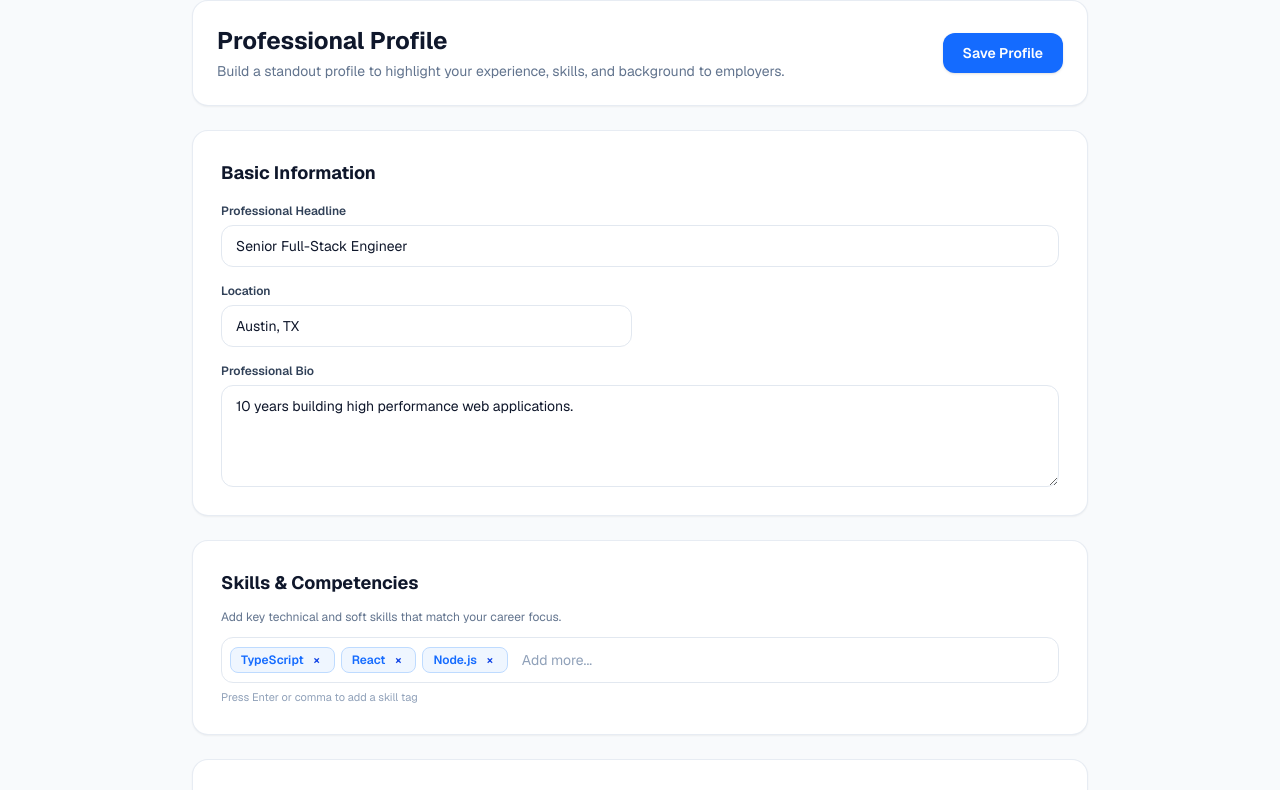
Test: SeekerProfilePage Component › adds a new skill tag via TagInput
Expected: the field showing "Senior Full-Stack Engineer" is shown, [221, 225, 1059, 267]
Type "Docker" into the field with placeholder "Add more...". click: (782, 660)
box: [514, 646, 1050, 674]
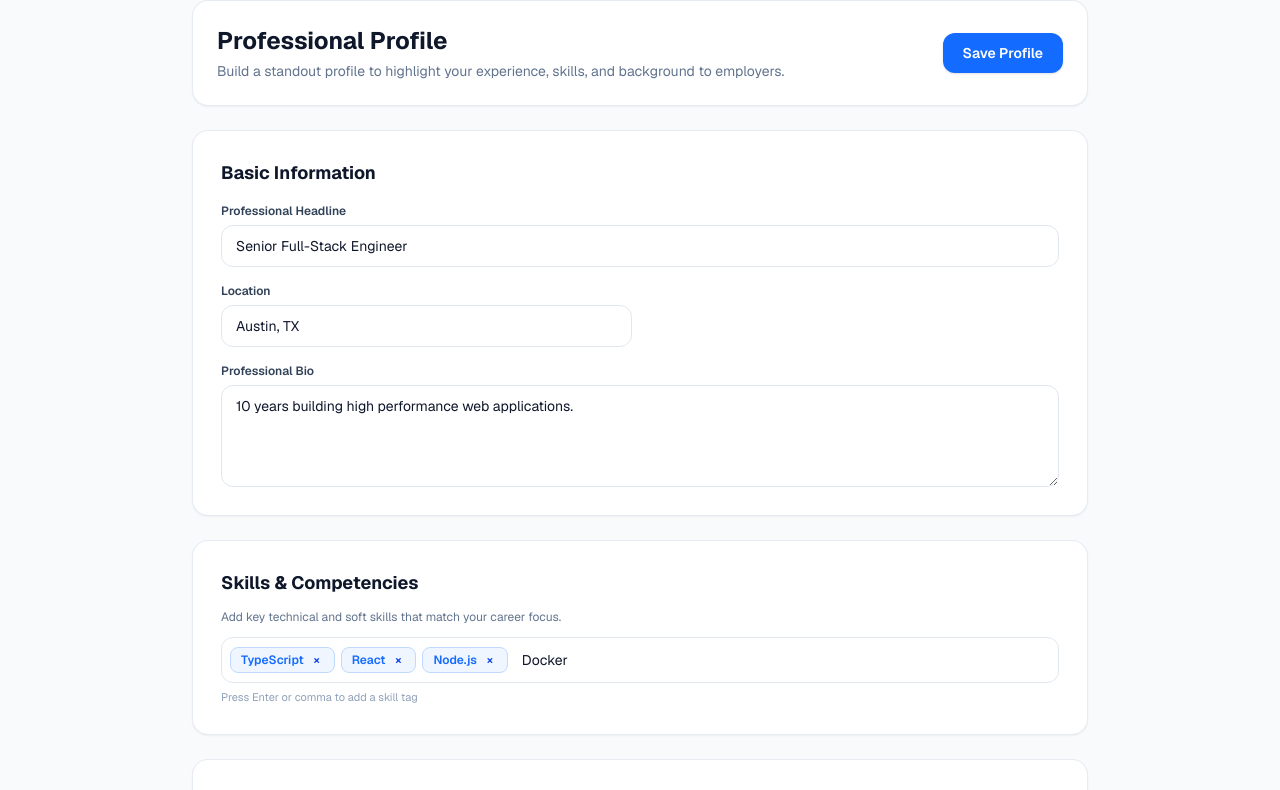
Press Enter in the field with placeholder "Add more...", box [514, 646, 1050, 674]
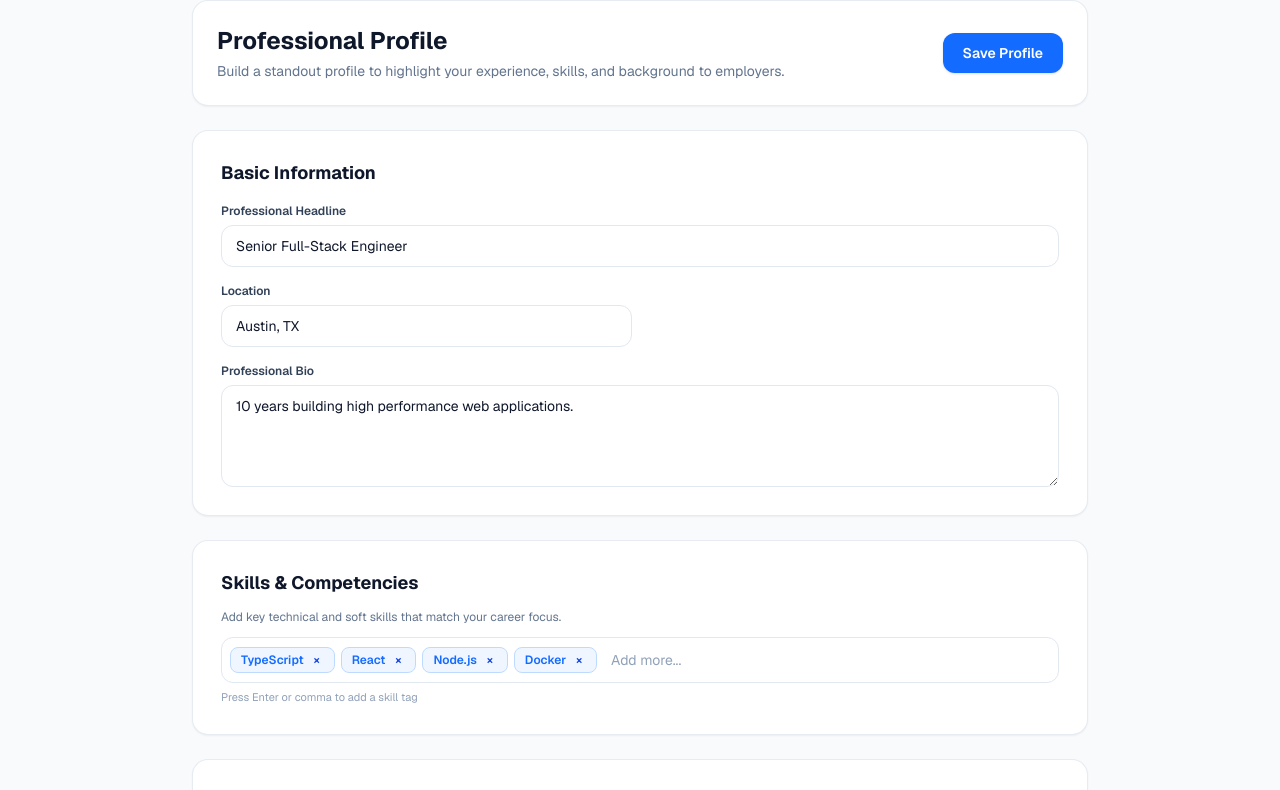
Result: the text "Docker" is shown at [525, 652, 566, 668]
